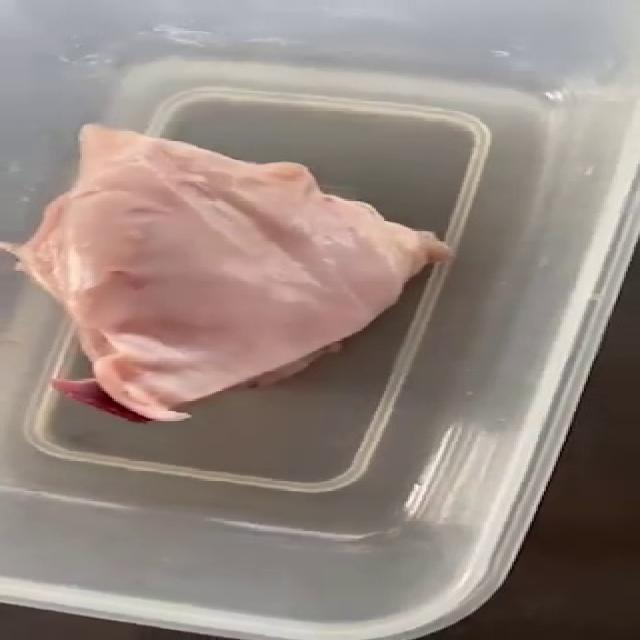chicken: (23, 120, 465, 430)
